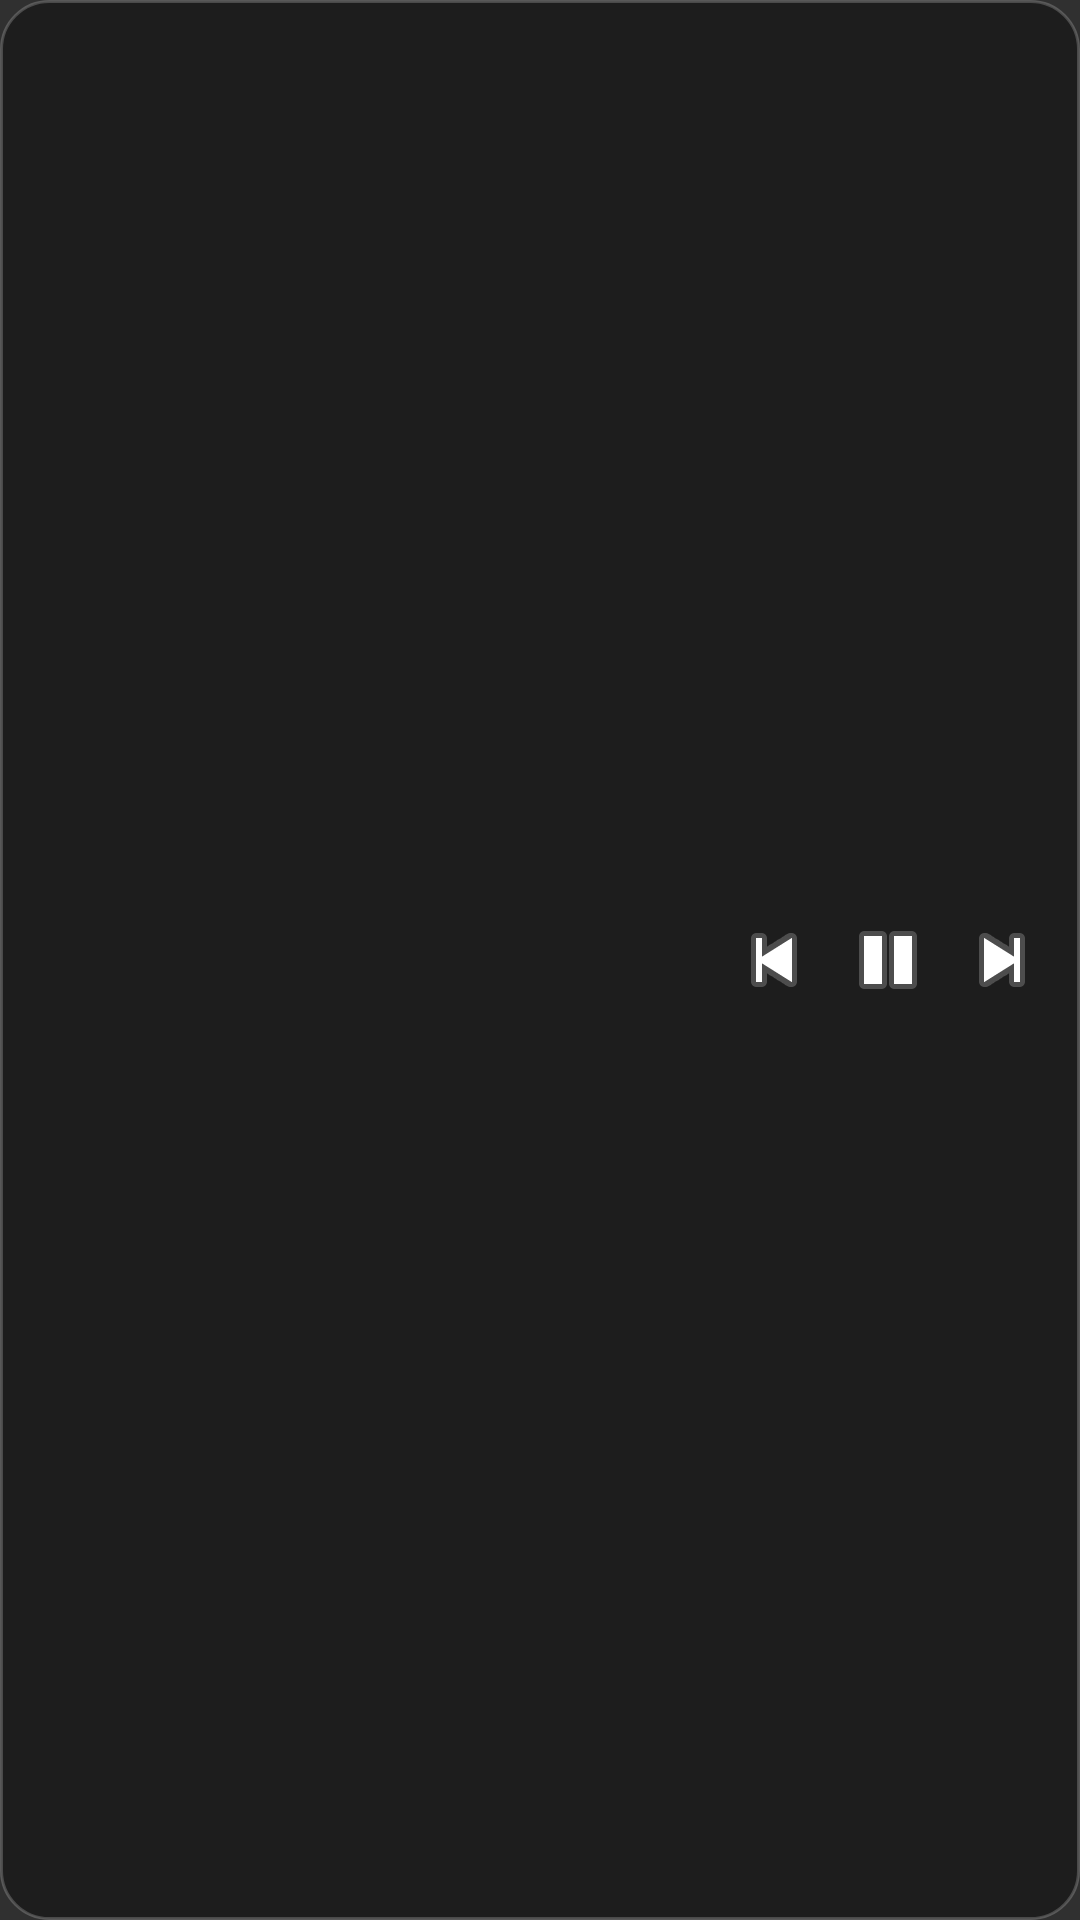

Point at icon controls on the screen. Image size 1080px×1920px, points as (x,y).
上一首: (774,960)
下一首: (1002,960)
播放/暫停: (888,960)
